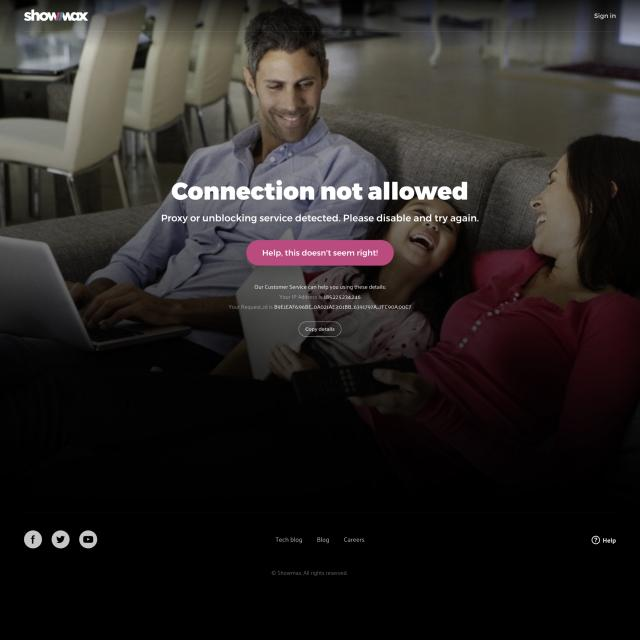footer: (1, 500, 640, 640)
logo: (18, 7, 93, 26)
navigation: (273, 534, 367, 547)
